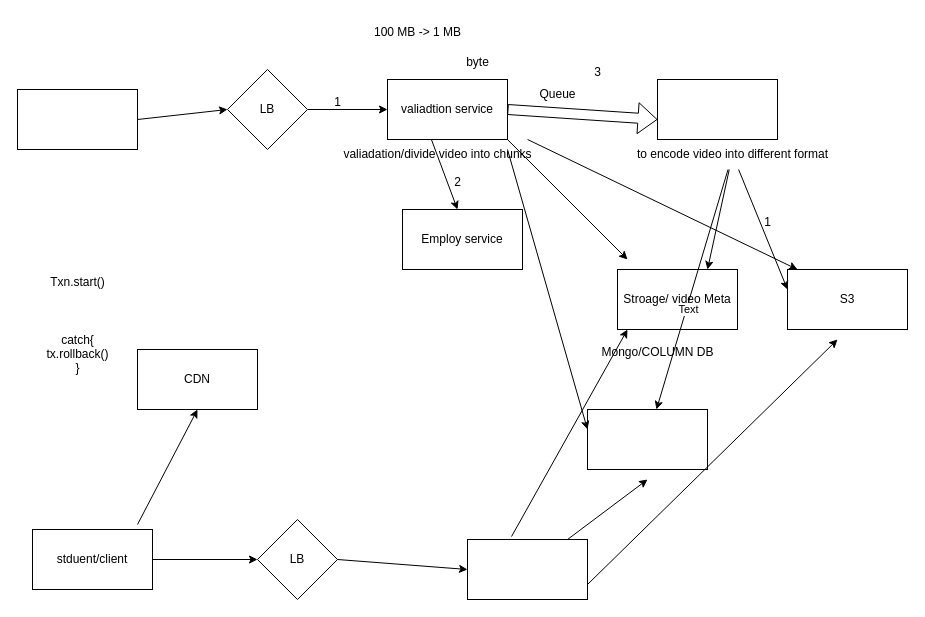
Image size: 925x617. Some labels were removed from this diagram. The centre of each missing label's shape, as x and y in pixels:
Aggreator service/ Middleware service: (x=527, y=569)
Elastic serch: (x=647, y=439)
Ops/client: (x=77, y=119)
Upload service: (x=717, y=109)
